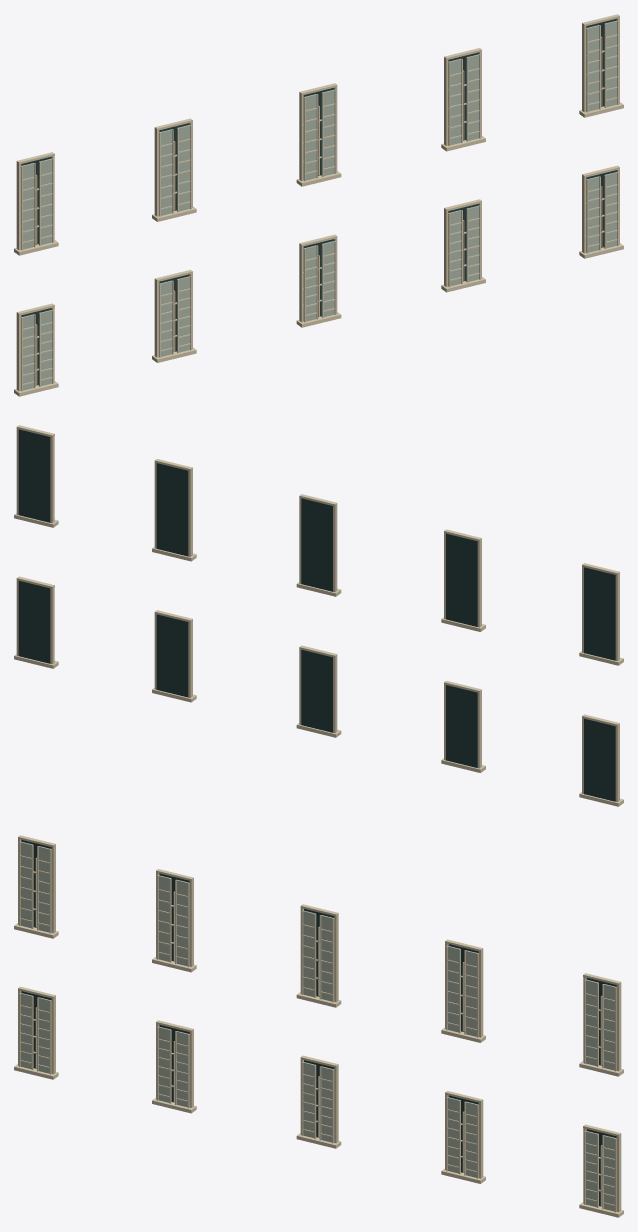
Rendered from KOL_T1_TOWN_HALL__05_Rear.fbx.
The picture shows the model from 3 angles, top to bottom: view 1: azimuth 30°, elevation 25°; view 2: azimuth 150°, elevation 25°; view 3: azimuth 330°, elevation 25°; orthographic projection.
Visible parts, largest first — view 1: KOL_T1_TOWN_HALL__05_Rear__KOL_T1_HeritageCream, KOL_T1_TOWN_HALL__05_Rear__KOL_T1_HeritageShutter, KOL_T1_TOWN_HALL__05_Rear__KOL_T1_HeritageGlass; view 2: KOL_T1_TOWN_HALL__05_Rear__KOL_T1_HeritageGlass, KOL_T1_TOWN_HALL__05_Rear__KOL_T1_HeritageCream; view 3: KOL_T1_TOWN_HALL__05_Rear__KOL_T1_HeritageCream, KOL_T1_TOWN_HALL__05_Rear__KOL_T1_HeritageShutter, KOL_T1_TOWN_HALL__05_Rear__KOL_T1_HeritageGlass.
Boxes of the visible parts, box(x1,y1,x2,y2) form: KOL_T1_TOWN_HALL__05_Rear__KOL_T1_HeritageCream: box(14, 14, 623, 396); KOL_T1_TOWN_HALL__05_Rear__KOL_T1_HeritageShutter: box(21, 20, 617, 390); KOL_T1_TOWN_HALL__05_Rear__KOL_T1_HeritageGlass: box(21, 19, 616, 385); KOL_T1_TOWN_HALL__05_Rear__KOL_T1_HeritageGlass: box(18, 429, 615, 801); KOL_T1_TOWN_HALL__05_Rear__KOL_T1_HeritageCream: box(14, 425, 623, 806); KOL_T1_TOWN_HALL__05_Rear__KOL_T1_HeritageCream: box(14, 835, 623, 1217); KOL_T1_TOWN_HALL__05_Rear__KOL_T1_HeritageShutter: box(20, 841, 616, 1211); KOL_T1_TOWN_HALL__05_Rear__KOL_T1_HeritageGlass: box(21, 840, 616, 1206).
Bounding box in the file's own units: 92 × 33.77 × 1.4.
